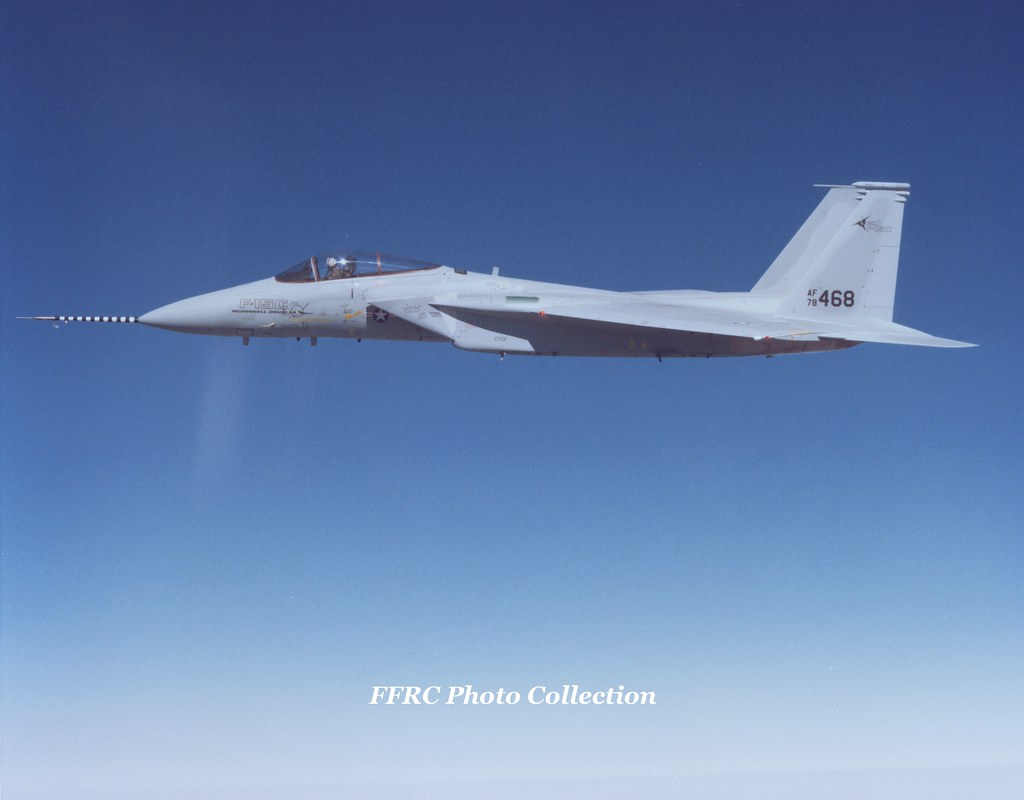airplane: (15, 181, 982, 363)
